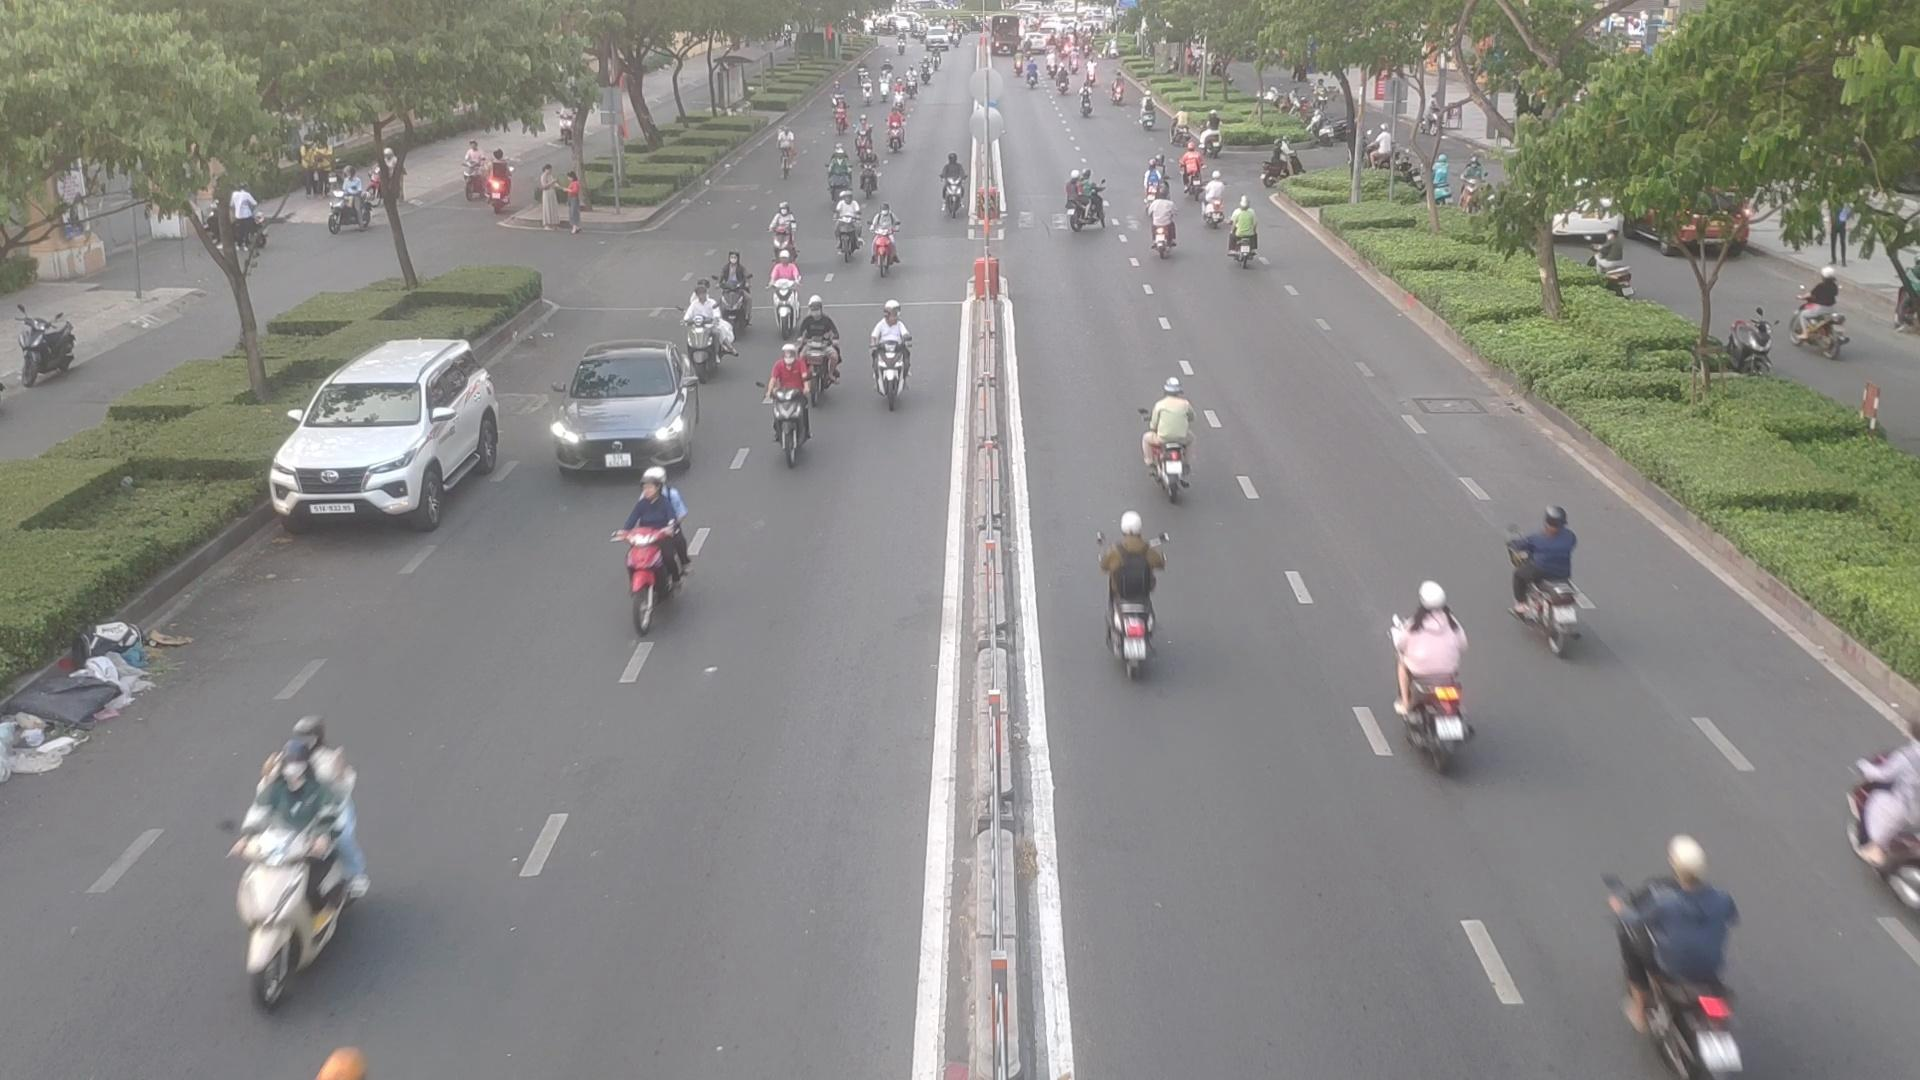car: (272, 339, 516, 531), (549, 345, 712, 476)
motorbike: (220, 723, 375, 986), (1610, 836, 1766, 1077), (1383, 589, 1485, 769), (607, 472, 702, 622), (1091, 522, 1175, 673), (1854, 727, 1920, 915), (1506, 509, 1585, 653), (1138, 386, 1209, 496), (766, 345, 825, 463), (862, 313, 916, 407), (683, 291, 741, 375), (794, 307, 847, 385), (1055, 167, 1109, 233), (711, 257, 756, 324), (1226, 204, 1270, 268), (765, 258, 803, 327), (1146, 191, 1183, 257), (866, 220, 905, 276), (764, 210, 800, 262), (936, 156, 967, 218), (833, 210, 866, 264), (1178, 150, 1211, 198), (1197, 175, 1226, 228), (1145, 158, 1170, 207), (880, 113, 909, 154), (828, 149, 851, 196), (853, 113, 876, 158), (858, 146, 877, 193)
